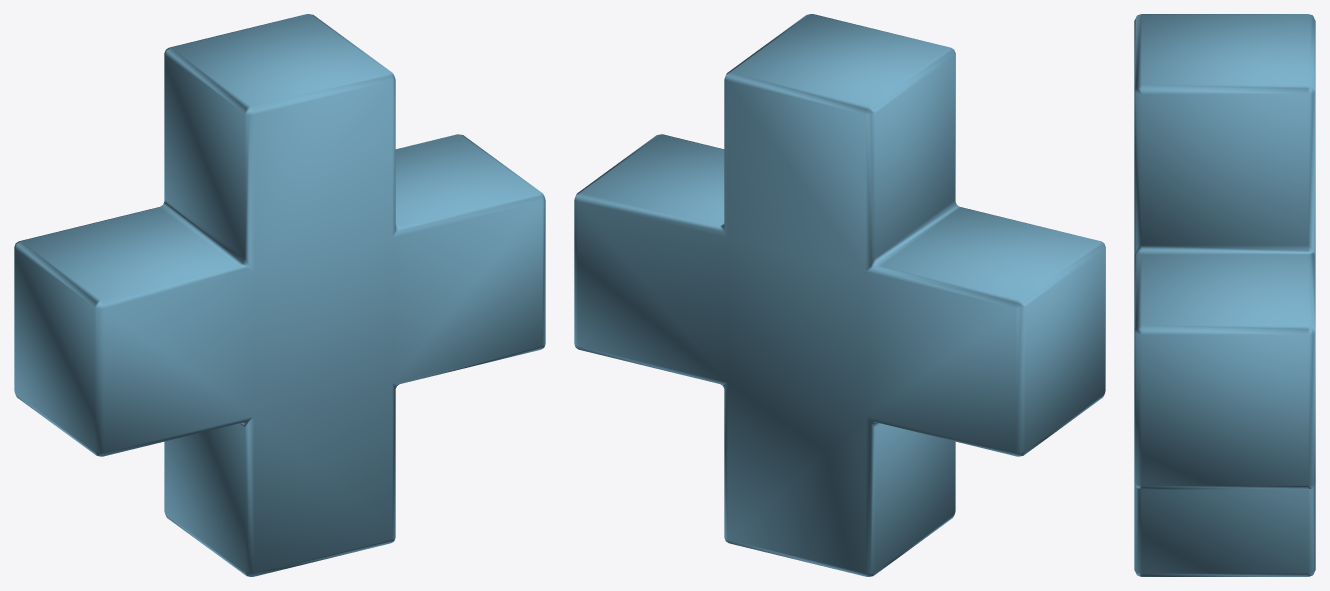
The model's file is A03_CROSS_BEAM.fbx.
3 renders of one model, left to right at view 1: azimuth 30°, elevation 25°; view 2: azimuth 150°, elevation 25°; view 3: azimuth 270°, elevation 25°, orthographic. The views are drawn at different scales.
Visible parts, largest first — view 1: A03_CROSS_BEAM; view 2: A03_CROSS_BEAM; view 3: A03_CROSS_BEAM.
Boxes of the visible parts, x1=… form: A03_CROSS_BEAM: x1=14, y1=14, x2=545, y2=576; A03_CROSS_BEAM: x1=574, y1=14, x2=1105, y2=576; A03_CROSS_BEAM: x1=1134, y1=14, x2=1315, y2=576.
Bounding box in the file's own units: 300 × 300 × 100.
